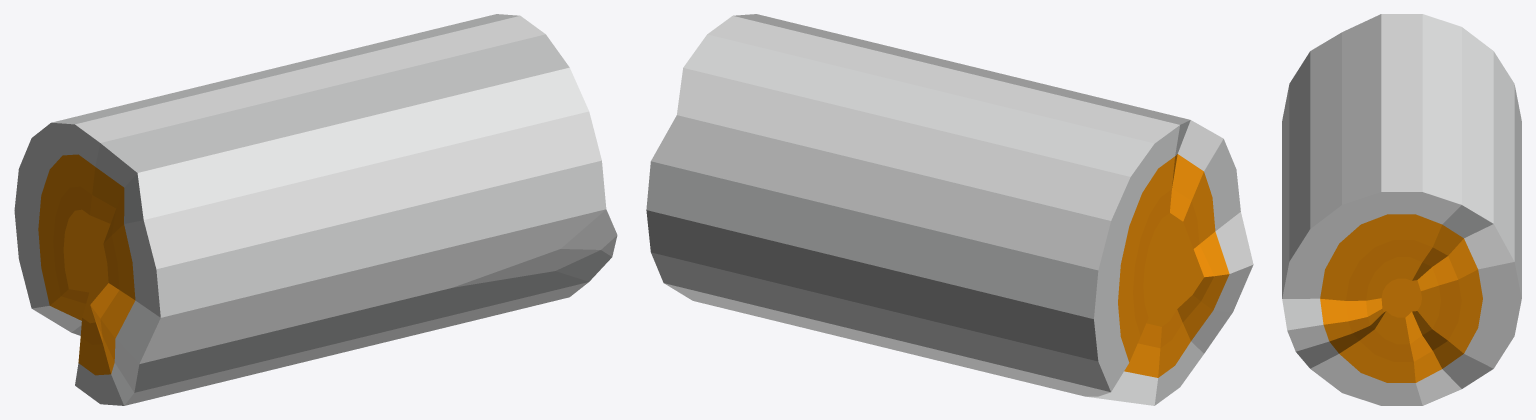
The model's file is Broken log_10.fbx.
3 views of the same model, side by side, from view 1: azimuth 30°, elevation 25°; view 2: azimuth 150°, elevation 25°; view 3: azimuth 270°, elevation 25° (orthographic). The views are drawn at different scales.
Visible parts, largest first — view 1: Circle.215; view 2: Circle.215; view 3: Circle.215.
Boxes of the visible parts, x1,y1,x2,y2 form: Circle.215: [14, 14, 617, 405]; Circle.215: [646, 14, 1253, 405]; Circle.215: [1282, 14, 1521, 405].
Bounding box in the file's own units: 48.11 × 25.19 × 25.57.
